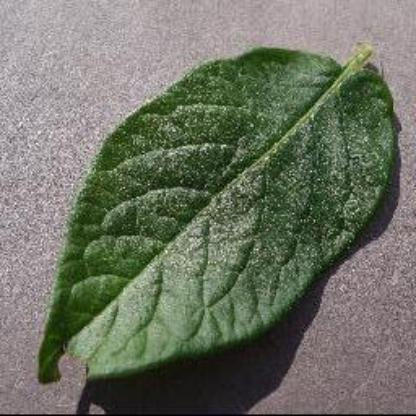Healthy-plant: (34, 23, 404, 415)
